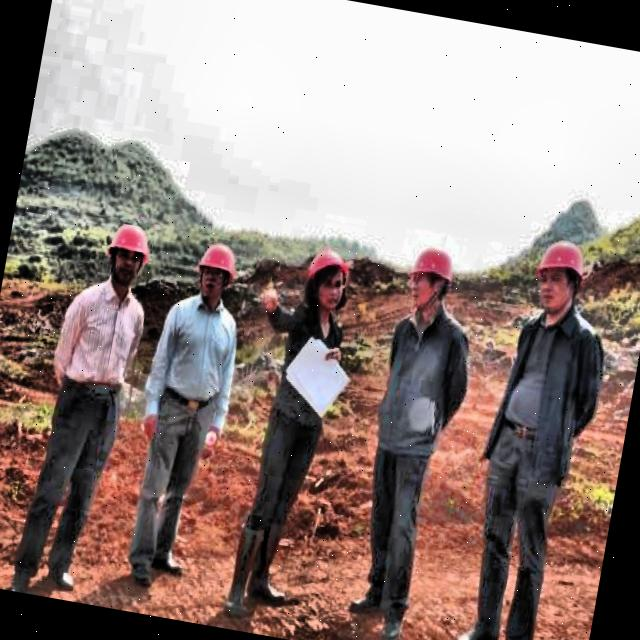helmet: (523, 228, 594, 320), (296, 237, 359, 322), (400, 236, 460, 322), (100, 215, 158, 295), (190, 234, 243, 307)
